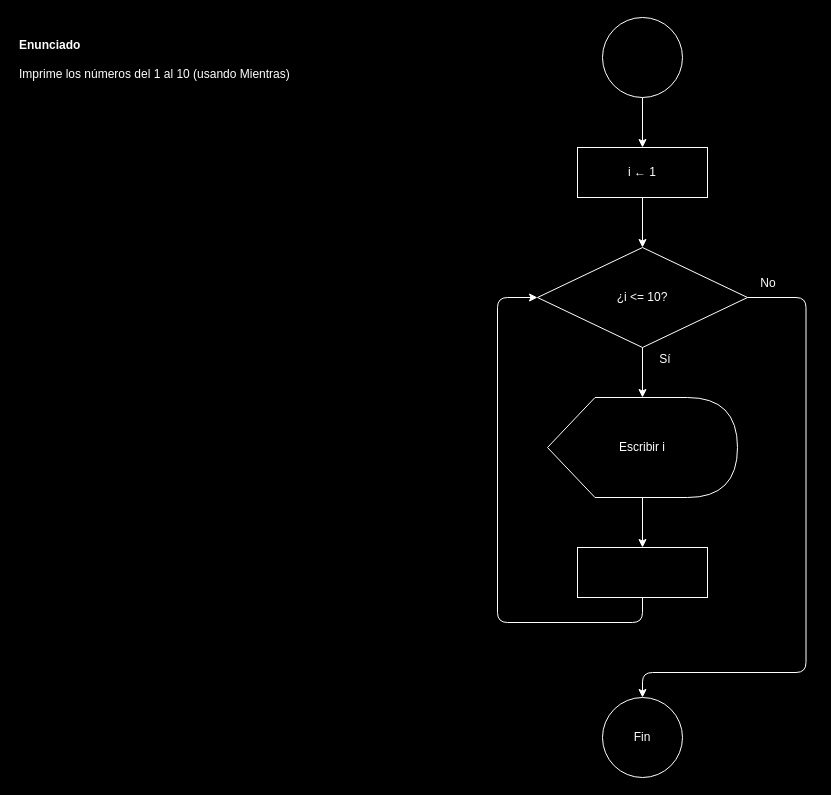
Some shapes in this 831 by 795 pixel diagram are drawn without their labels. The centre of each missing label's shape, as x and y in pixels:
i ← i + 1: the point at 642,572
Inicio: the point at 642,57
